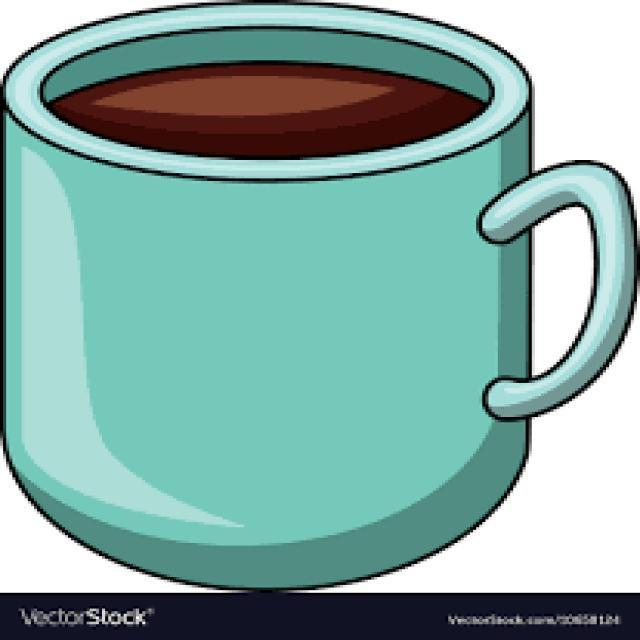taza: (3, 1, 640, 592)
